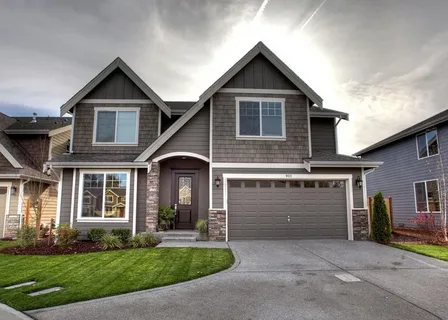private_hause: (66, 73, 371, 236)
